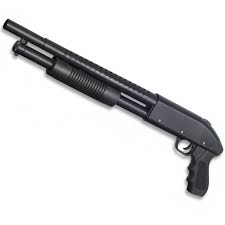Arma Real: (1, 17, 222, 196)
